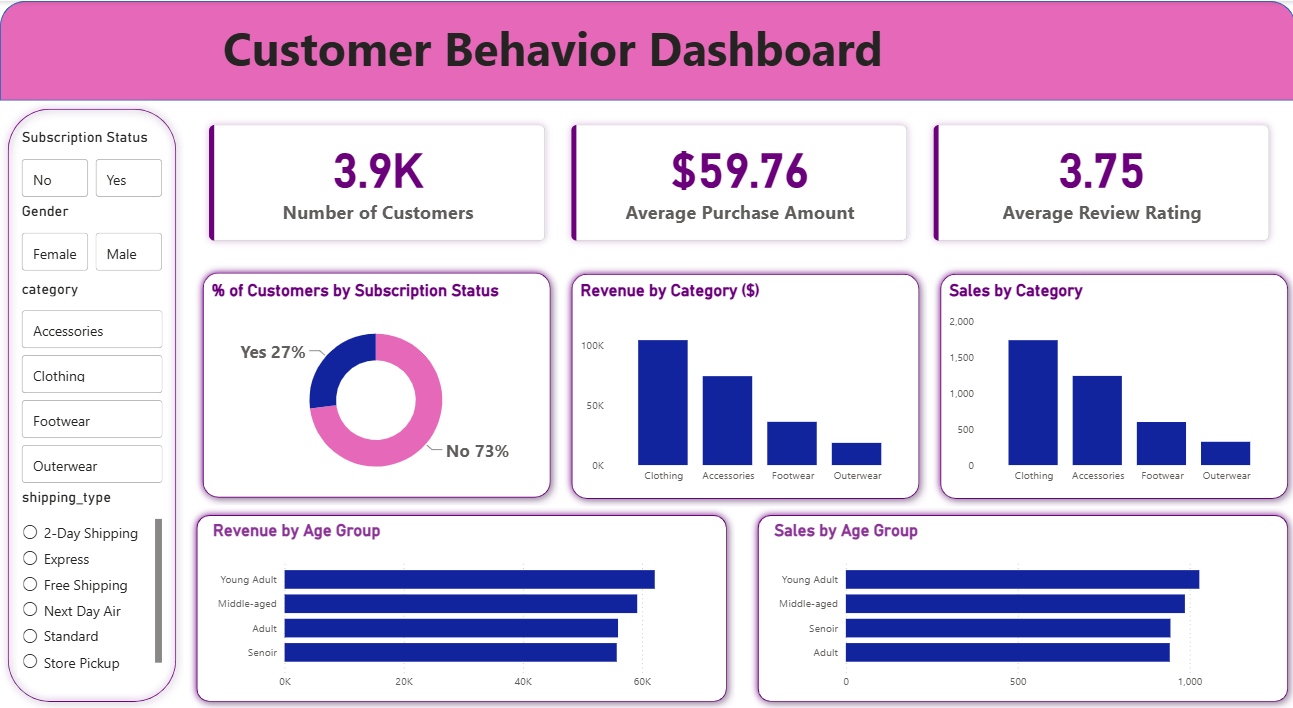

This screenshot's page, from the dashboard's own definition file:
{"tool":"powerbi","page":{"name":"Page 1","canvas":[1500,820],"ordinal":0},"visuals":[{"type":"cardVisual","fields":{"Data":["public customer.Number of Customers","public customer.Average Purchase Amount","public customer.Average Review Rating"]},"box":[214.1,115.7,1284.7,191],"z":0},{"type":"shape","box":[0,0,1499.4,115.3],"z":1000},{"type":"textbox","box":[0,13.3,1280,90.5],"z":2000},{"type":"shape","box":[218.3,585.6,631.7,234.2],"z":2500,"group":"g1"},{"type":"shape","box":[225.7,305.3,420.5,278.6],"z":3000},{"type":"donutChart","title":"% of Customers by Subscription Status","fields":{"Category":["public customer.subscription_status"],"Y":["CountNonNull(public customer.customer_id)"]},"box":[240.7,324.7,390.1,243.2],"z":4000},{"type":"shape","box":[1079.3,306.7,420.5,278.6],"z":5000},{"type":"shape","box":[652.5,307,420.5,278.6],"z":6000},{"type":"clusteredColumnChart","title":"Revenue by Category ($)","fields":{"Category":["public customer.category"],"Y":["Sum(public customer.purchase_amount)"]},"box":[667,324.1,390.6,243.1],"z":7000},{"type":"clusteredColumnChart","title":"Sales by Category","fields":{"Category":["public customer.category"],"Y":["CountNonNull(public customer.customer_id)"]},"box":[1093.8,324.1,390.6,243.1],"z":8000},{"type":"shape","box":[0,115.7,212.9,704.5],"z":9000},{"type":"advancedSlicerVisual","fields":{"Values":["public customer.subscription_status"]},"box":[20.3,147.6,173.9,85.2],"z":10000},{"type":"advancedSlicerVisual","fields":{"Values":["public customer.gender"]},"box":[20.3,232.9,173.9,85.2],"z":11000},{"type":"advancedSlicerVisual","fields":{"Values":["public customer.category"]},"box":[20.3,322.6,173.6,241.6],"z":12000},{"type":"listSlicer","fields":{"Values":["public customer.shipping_type"]},"box":[20.3,564.2,172.2,218.5],"z":12001},{"type":"group","id":"g1","title":"Group 1","box":[218.3,585.6,631.7,234.2],"z":12002},{"type":"shape","box":[867.7,585.6,631.7,234.2],"z":12003},{"type":"clusteredBarChart","title":"Sales by Age Group","fields":{"Category":["public customer.age_group"],"Y":["CountNonNull(public customer.customer_id)"]},"box":[890.8,601.5,585.6,204.1],"z":12004},{"type":"clusteredBarChart","title":"Revenue by Age Group","fields":{"Category":["public customer.age_group"],"Y":["Sum(public customer.purchase_amount)"]},"box":[241.4,601.6,585.6,204.1],"z":17500,"group":"g1"}]}

Visuals, with their boxes in screenshot pixels (x1, y1, x2, y2), scaled from the page's 1500x820 canvas onto the 1293x708 screenshot:
cardVisual - public customer.Number of Customers x public customer.Average Purchase Amount: <region>185, 100, 1292, 265</region>
shape: <region>0, 0, 1292, 100</region>
textbox: <region>0, 11, 1103, 90</region>
shape: <region>188, 506, 733, 707</region>
shape: <region>195, 264, 557, 504</region>
"% of Customers by Subscription Status" donutChart: <region>207, 280, 544, 490</region>
shape: <region>930, 265, 1292, 505</region>
shape: <region>562, 265, 925, 506</region>
"Revenue by Category ($)" clusteredColumnChart: <region>575, 280, 912, 490</region>
"Sales by Category" clusteredColumnChart: <region>943, 280, 1280, 490</region>
shape: <region>0, 100, 184, 707</region>
advancedSlicerVisual - public customer.subscription_status: <region>17, 127, 167, 201</region>
advancedSlicerVisual - public customer.gender: <region>17, 201, 167, 275</region>
advancedSlicerVisual - public customer.category: <region>17, 279, 167, 487</region>
listSlicer - public customer.shipping_type: <region>17, 487, 166, 676</region>
"Group 1" group: <region>188, 506, 733, 707</region>
shape: <region>748, 506, 1292, 707</region>
"Sales by Age Group" clusteredBarChart: <region>768, 519, 1273, 696</region>
"Revenue by Age Group" clusteredBarChart: <region>208, 519, 713, 696</region>
